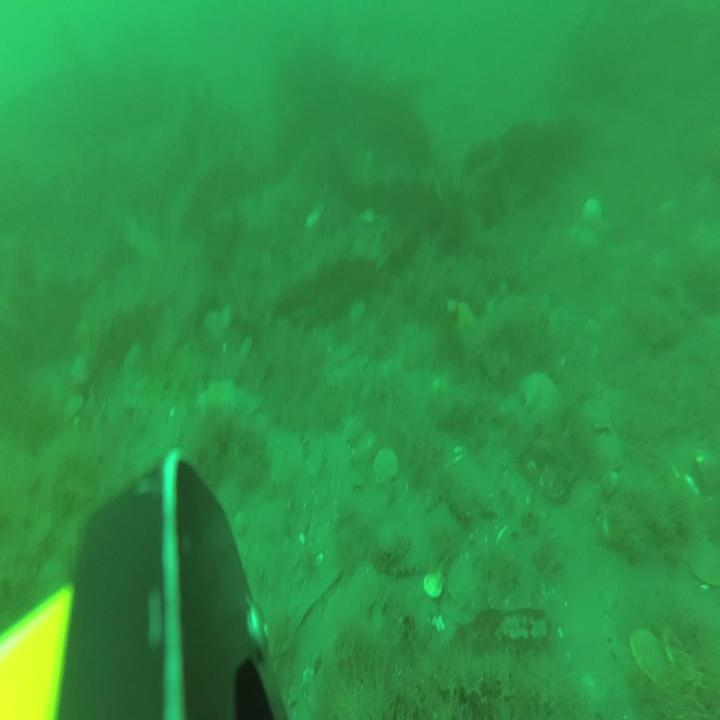scallop: (628, 624, 672, 689), (686, 529, 720, 592), (568, 477, 604, 528), (447, 556, 480, 610), (352, 560, 378, 616), (536, 456, 568, 500), (595, 430, 627, 471), (373, 444, 401, 489), (216, 472, 243, 518), (581, 393, 614, 430), (61, 389, 86, 422), (582, 189, 602, 226), (422, 568, 445, 600), (70, 354, 92, 385), (347, 294, 367, 328), (238, 330, 255, 365), (247, 388, 264, 420), (202, 309, 222, 336), (218, 300, 233, 330)
starfish: (195, 375, 243, 428), (519, 367, 561, 419)
